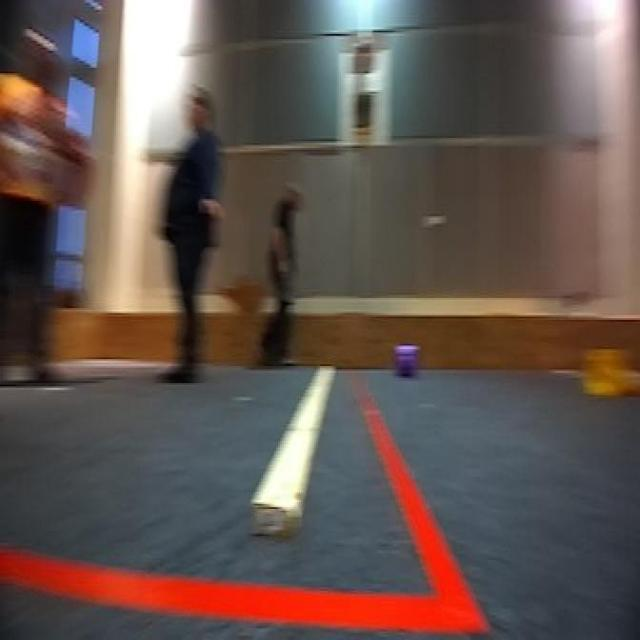frc_cone: (576, 347, 638, 400)
frc_cube: (396, 342, 421, 380)
